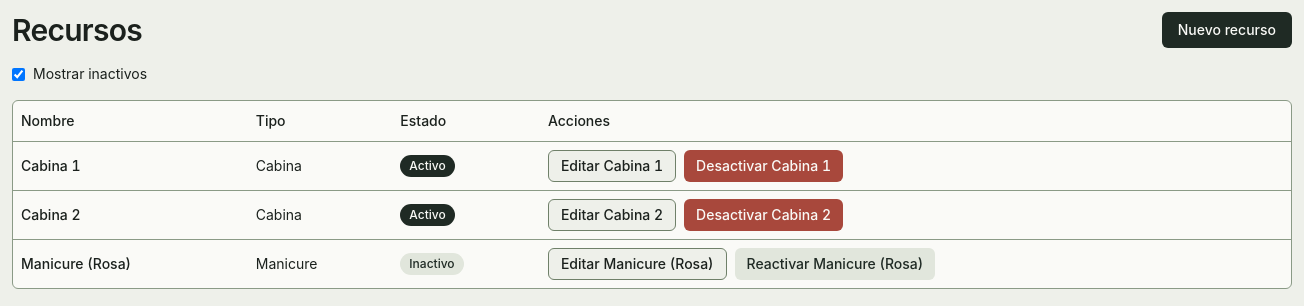
it: ResourcesPage › el filtro Mostrar inactivos oculta los inactivos
The image size is (1304, 306).
Expected: the row "Manicure" is shown, [13,239,1291,288]
Click the checkbox labelled "Mostrar inactivos" at [18, 74], box [12,68,25,80]
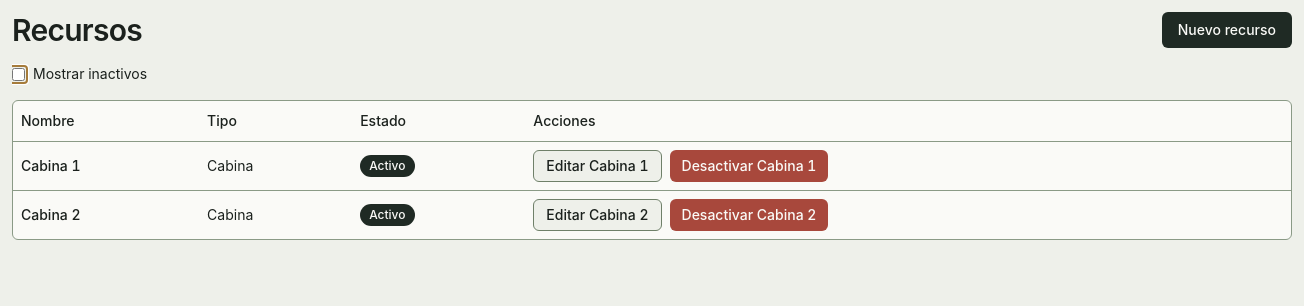
Expected: the row "Cabina 1 Cabina Activo Editar Cabina 1 Desactivar Cabina 1" is shown, [13,142,1291,190]
Now the cell "Manicure" is gone
